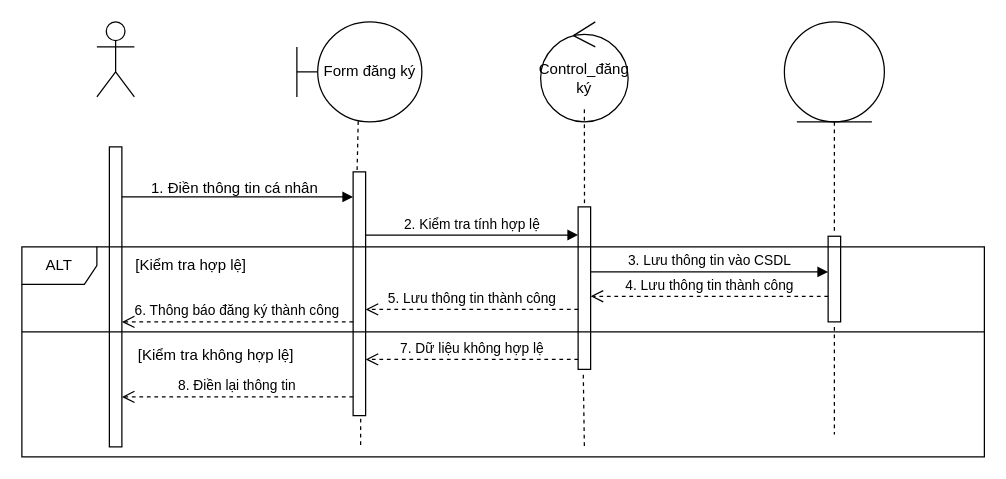
Some shapes in this 1006 by 479 pixel diagram are drawn without their labels. The centre of each missing label's shape, as x and y in pixels:
"CSDL_Tài khoản" belongs at point (833, 71).
"Khách hàng" belongs at point (115, 59).
